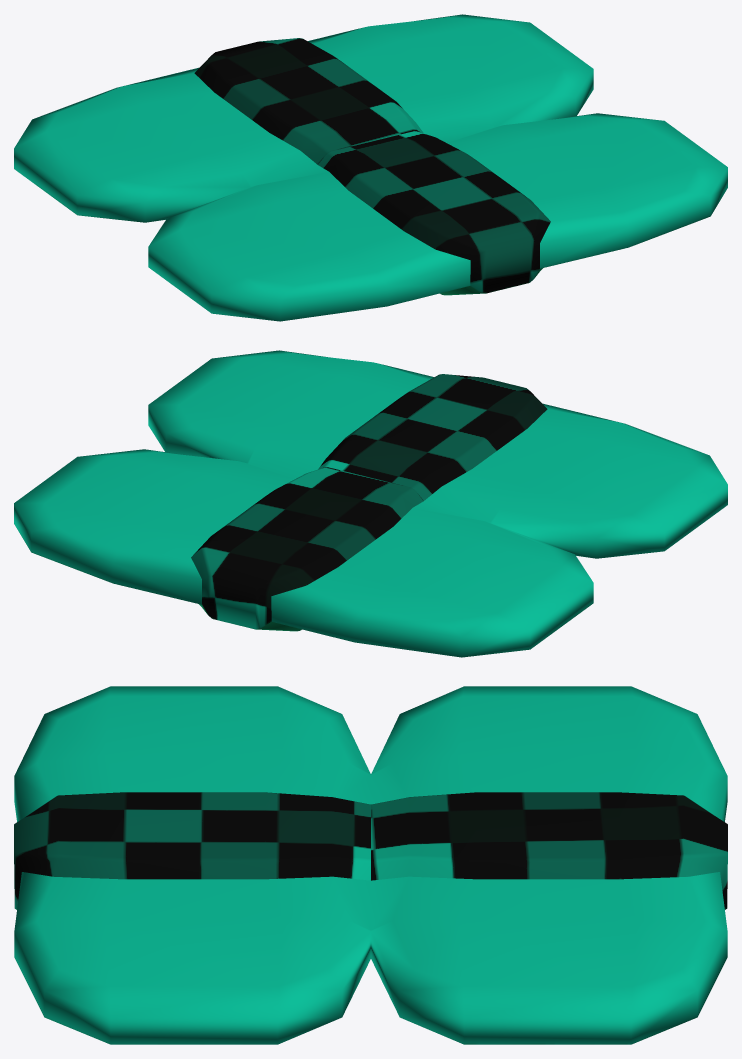
File: SM_Bed_03.fbx
The picture shows the model from 3 angles, top to bottom: view 1: azimuth 30°, elevation 25°; view 2: azimuth 150°, elevation 25°; view 3: azimuth 270°, elevation 25°; orthographic projection. The views are drawn at different scales.
Visible parts, largest first — view 1: SM_Bed_03; view 2: SM_Bed_03; view 3: SM_Bed_03.
Part boxes in pixels (x1,y1,x2,y2): SM_Bed_03: (14,14,727,321); SM_Bed_03: (14,350,727,657); SM_Bed_03: (14,686,727,1044).
Size of the model in its own units: 163 by 148 by 18.7.
Materials: 1 (1 with a texture image).
